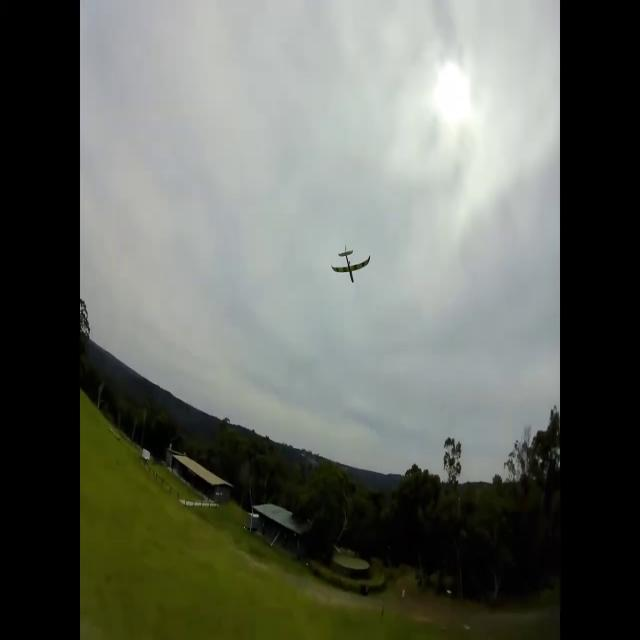iha: (330, 242, 372, 276)
